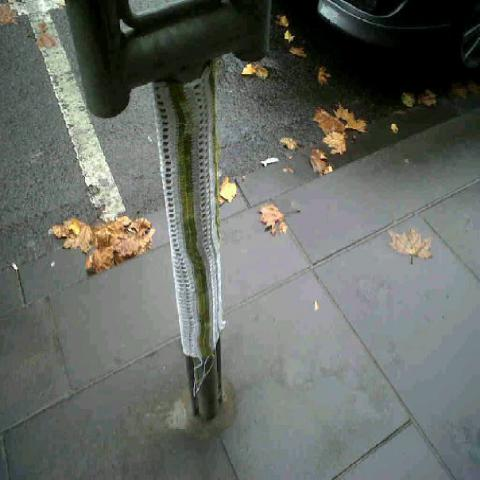car: (276, 0, 478, 73)
